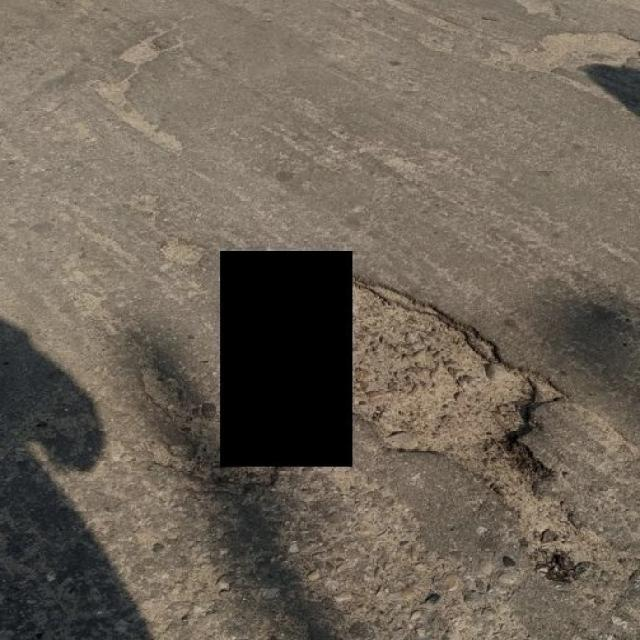road-pothole: (352, 274, 625, 584)
